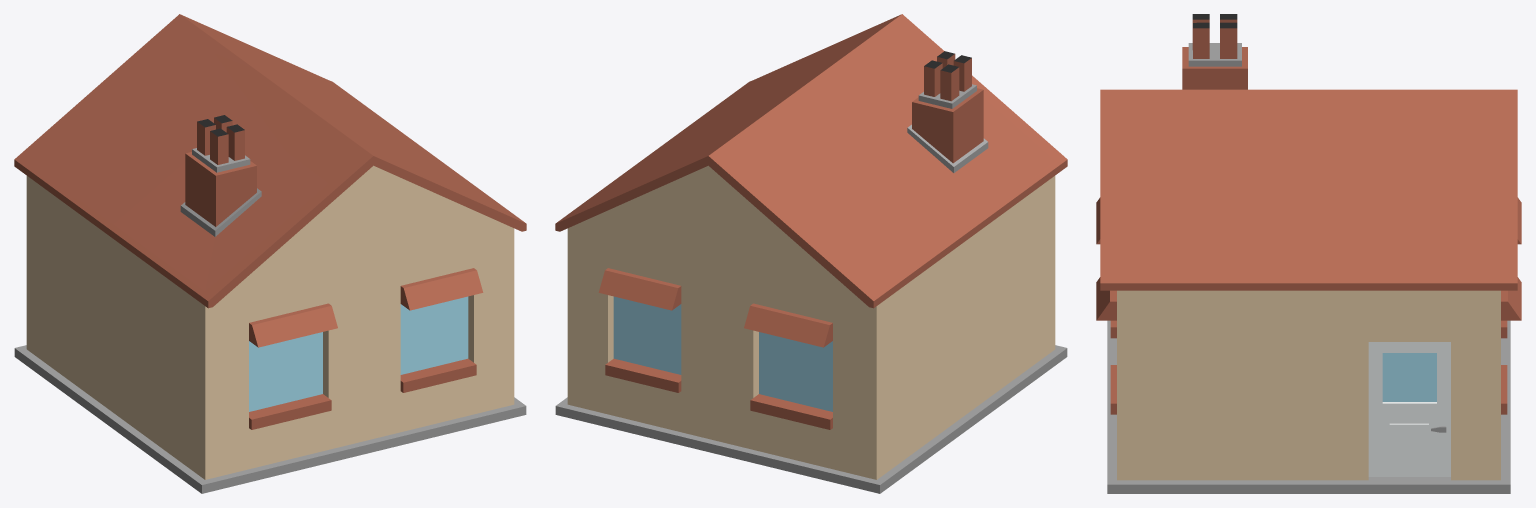
File: BasicHouse01.fbx
The picture shows the model from 3 angles, left to right: view 1: azimuth 30°, elevation 25°; view 2: azimuth 150°, elevation 25°; view 3: azimuth 270°, elevation 25°; orthographic projection. The views are drawn at different scales.
Parts seen in each view (by area): view 1: house; view 2: house; view 3: house.
Part boxes in pixels (x1=…): house: x1=14, y1=14, x2=526, y2=493; house: x1=555, y1=14, x2=1067, y2=493; house: x1=1096, y1=14, x2=1521, y2=493.
Size of the model in its own units: 20.39 by 18.88 by 21.48.
Materials: 1 (1 with a texture image).
